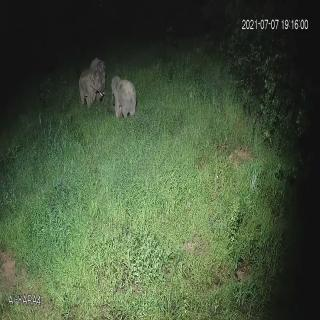Elephant: (111, 73, 137, 124), (77, 62, 106, 107)
